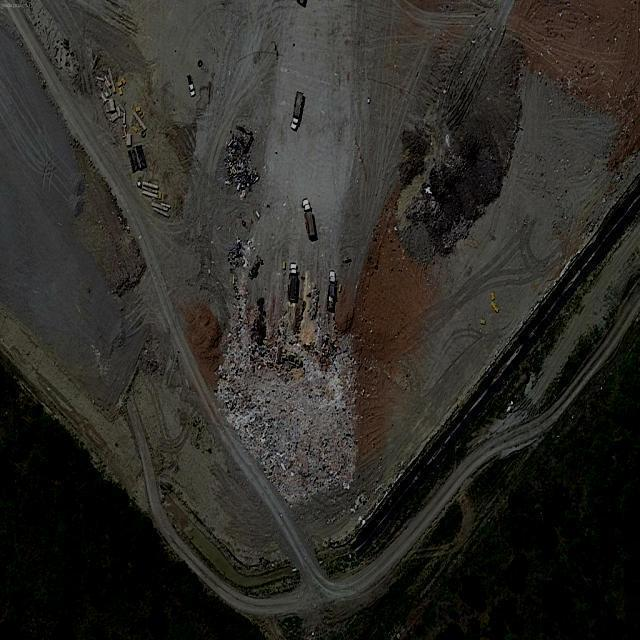dump_site: (195, 247, 389, 529), (217, 123, 263, 205)
